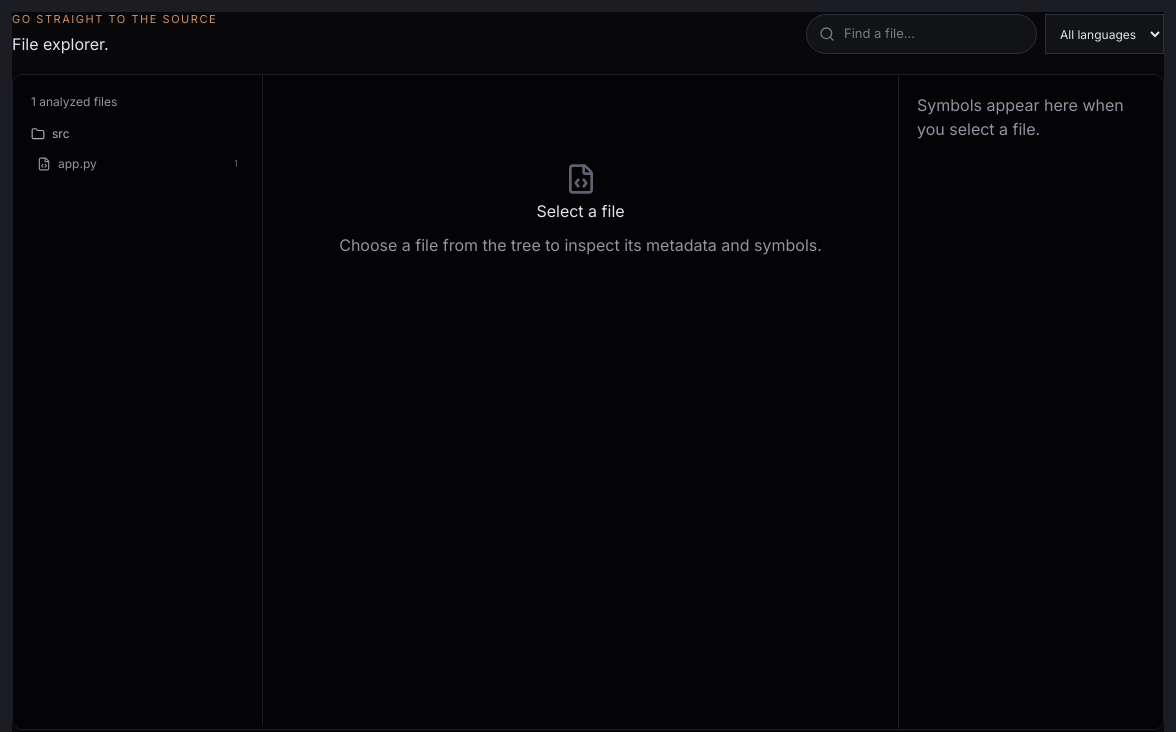
Repository workflow › selects file and exposes its symbols
The width and height of the screenshot is (1176, 732).
Step 1. Click the button "app.py 1" → (138, 164), box [31,148,244,180]
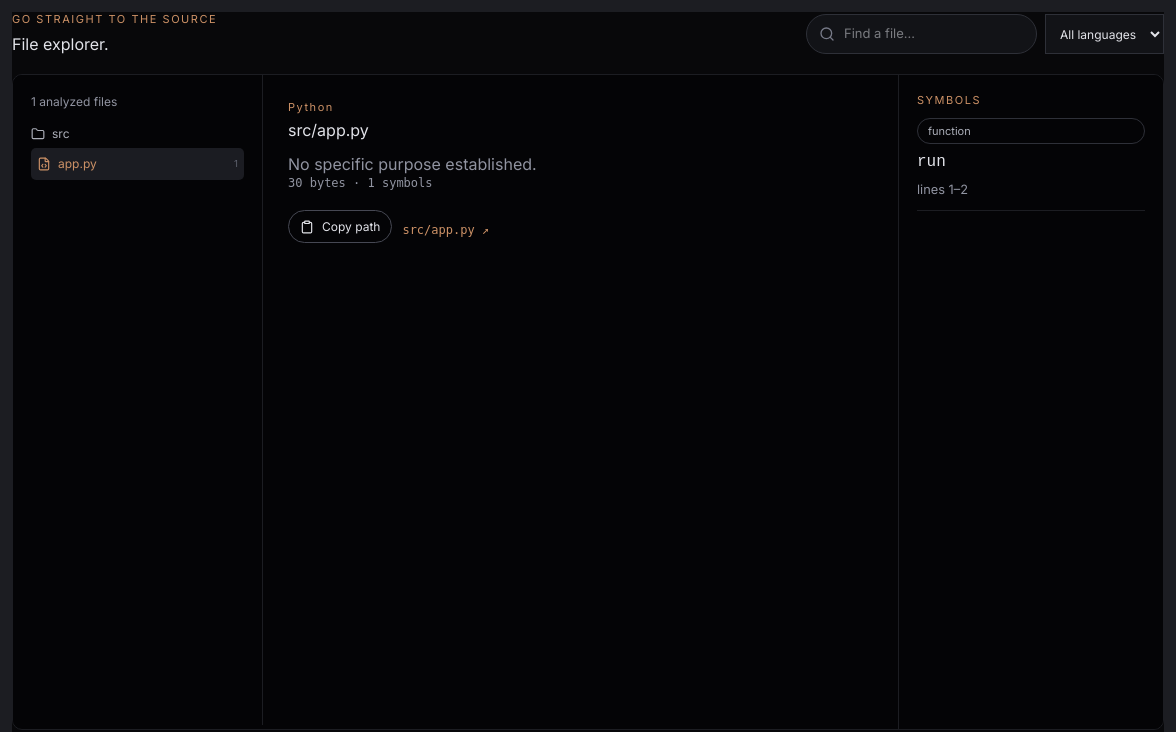
expect the text "run" is shown: met, box [917,153,946,171]
